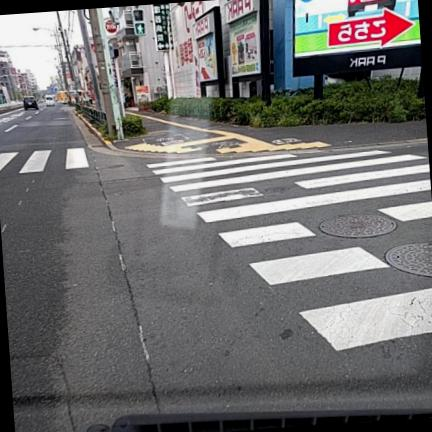Road: (0, 106, 431, 431)
